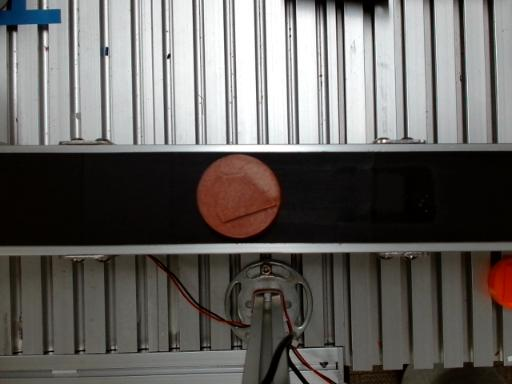Brown_Waper: (198, 154, 281, 238)
Not_Square: (217, 172, 277, 222)
